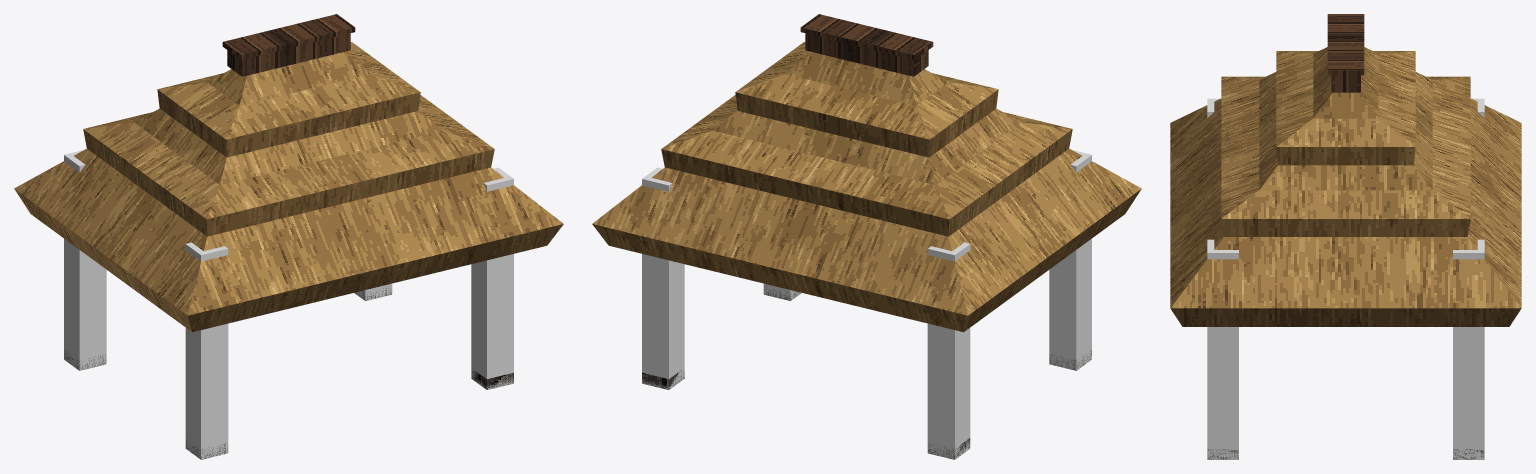
Rendered from JP_Farm_Shed_A.glb.
3 renders of one model, left to right at view 1: azimuth 30°, elevation 25°; view 2: azimuth 150°, elevation 25°; view 3: azimuth 270°, elevation 25°, orthographic.
Visible parts, largest first — view 1: JP_Farm_Shed_A, COL_JP_Farm_Shed_A_0_0, COL_JP_Farm_Shed_A_1_0, COL_JP_Farm_Shed_A_0_1; view 2: JP_Farm_Shed_A, COL_JP_Farm_Shed_A_0_1, COL_JP_Farm_Shed_A_1_1, COL_JP_Farm_Shed_A_0_0; view 3: JP_Farm_Shed_A, COL_JP_Farm_Shed_A_1_0, COL_JP_Farm_Shed_A_1_1.
Part boxes in pixels (x1=…): JP_Farm_Shed_A: x1=14, y1=14, x2=563, y2=459; COL_JP_Farm_Shed_A_0_0: x1=185, y1=242, x2=228, y2=459; COL_JP_Farm_Shed_A_1_0: x1=471, y1=167, x2=513, y2=389; COL_JP_Farm_Shed_A_0_1: x1=64, y1=150, x2=106, y2=370; JP_Farm_Shed_A: x1=592, y1=14, x2=1141, y2=459; COL_JP_Farm_Shed_A_0_1: x1=927, y1=242, x2=970, y2=459; COL_JP_Farm_Shed_A_1_1: x1=642, y1=167, x2=684, y2=389; COL_JP_Farm_Shed_A_0_0: x1=1049, y1=150, x2=1091, y2=370; JP_Farm_Shed_A: x1=1170, y1=14, x2=1521, y2=459; COL_JP_Farm_Shed_A_1_0: x1=1207, y1=239, x2=1238, y2=459; COL_JP_Farm_Shed_A_1_1: x1=1453, y1=239, x2=1484, y2=459.
Bounding box in the file's own units: 5 × 4.28 × 4.
Materials: 4 (4 with a texture image).
